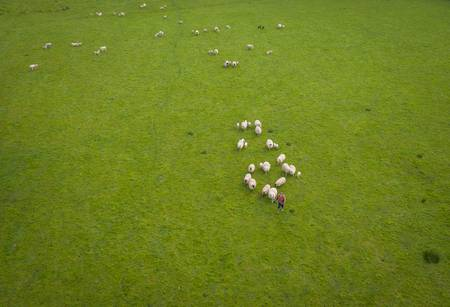sheep: (258, 160, 272, 173), (272, 177, 289, 187), (260, 182, 270, 196), (288, 163, 297, 178), (235, 137, 246, 149), (241, 172, 252, 184), (42, 40, 54, 51), (268, 187, 277, 201), (275, 153, 286, 164), (264, 137, 274, 149), (253, 125, 263, 137), (153, 29, 165, 39), (248, 178, 257, 191), (136, 1, 149, 10), (69, 40, 83, 48), (239, 119, 247, 132), (27, 63, 40, 71), (253, 117, 263, 127), (211, 25, 222, 34), (247, 163, 256, 174), (92, 48, 103, 56), (230, 59, 240, 67), (245, 42, 254, 50), (212, 47, 220, 56), (98, 44, 107, 51), (223, 23, 232, 30), (274, 23, 284, 29)
